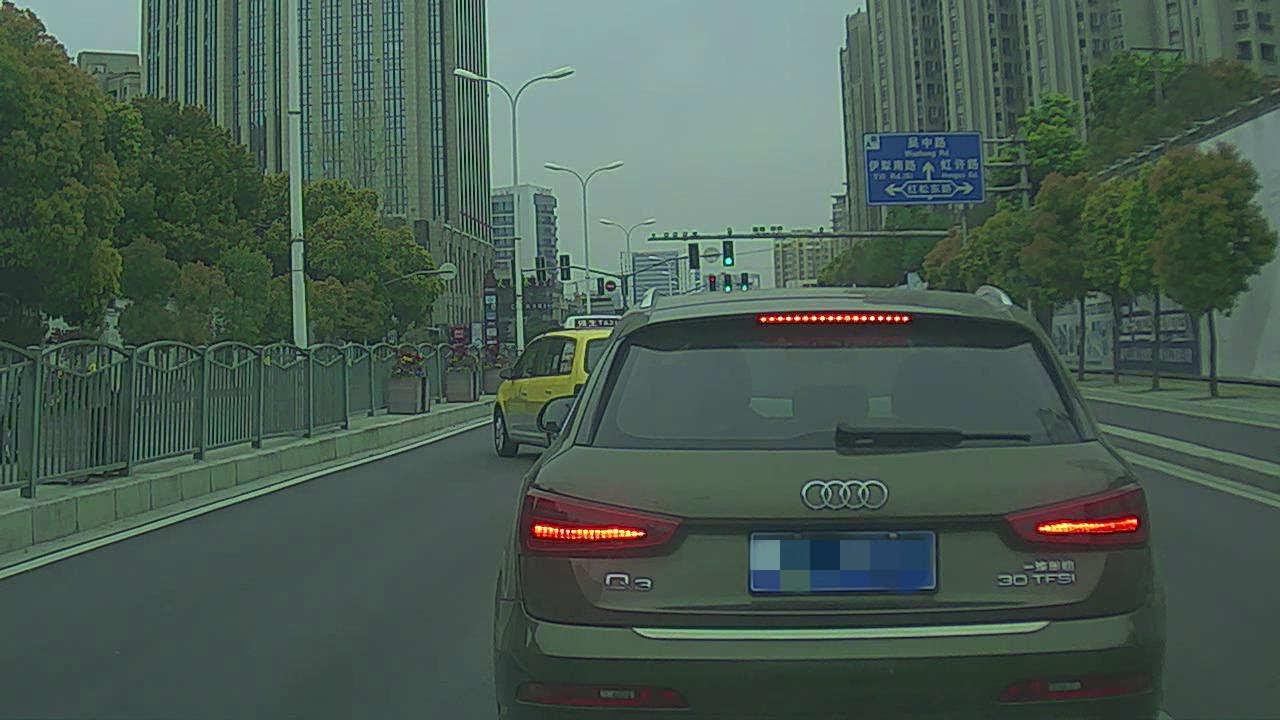traffic_light: (688, 244, 700, 269), (724, 241, 734, 265), (723, 273, 733, 294), (740, 272, 749, 292), (708, 275, 716, 291)
